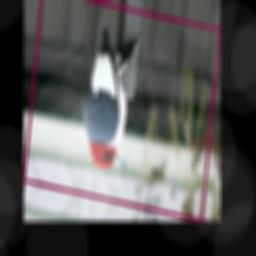Woodpecker: (77, 18, 142, 179)
